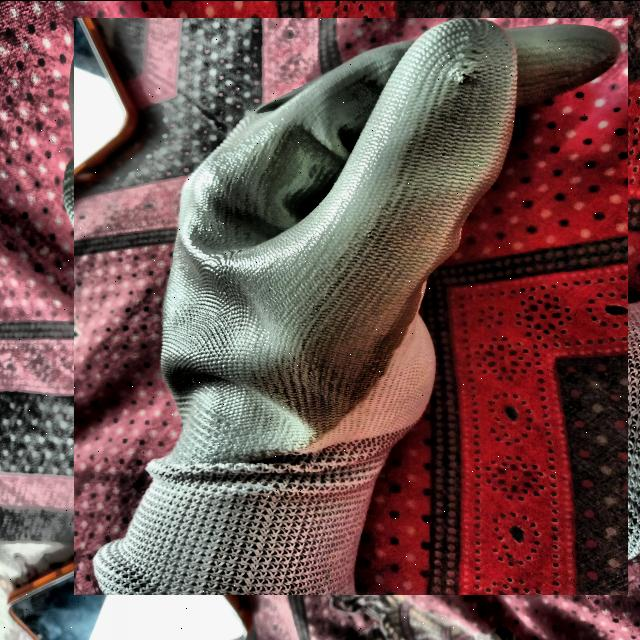gloved: (68, 23, 634, 589)
